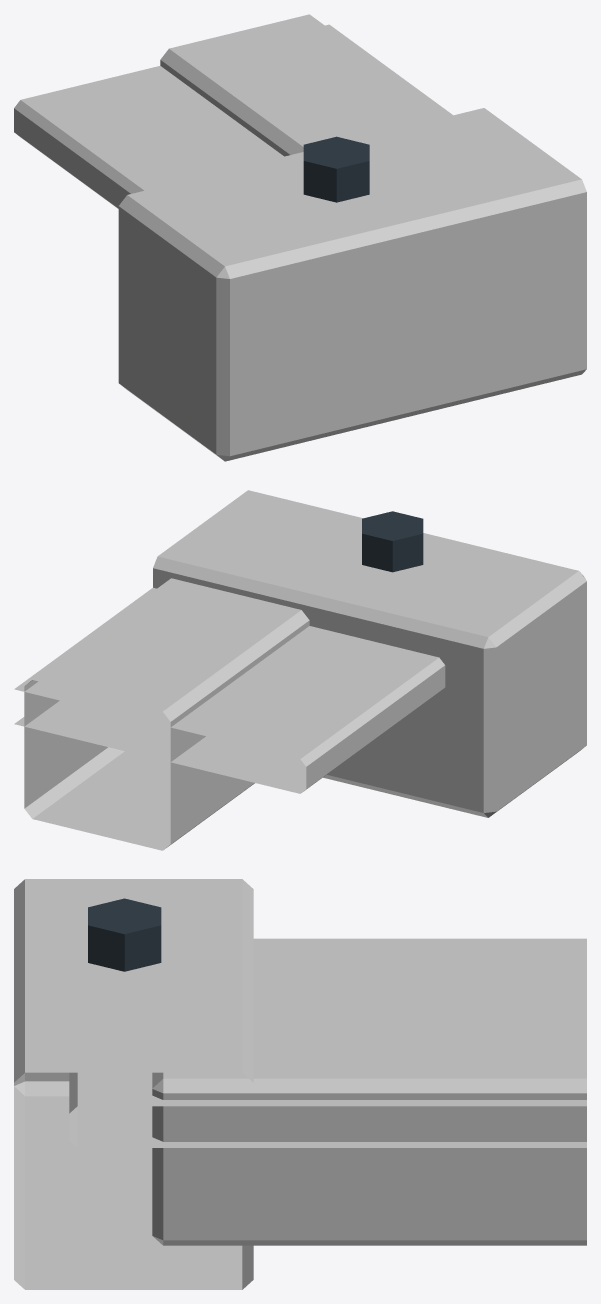
The model's file is cell_14.obj.
3 views of the same model, one above another, from view 1: azimuth 30°, elevation 25°; view 2: azimuth 150°, elevation 25°; view 3: azimuth 270°, elevation 25° (orthographic). The views are drawn at different scales.
Size of the model in its own units: 0.674 by 0.4192 by 0.8225.
